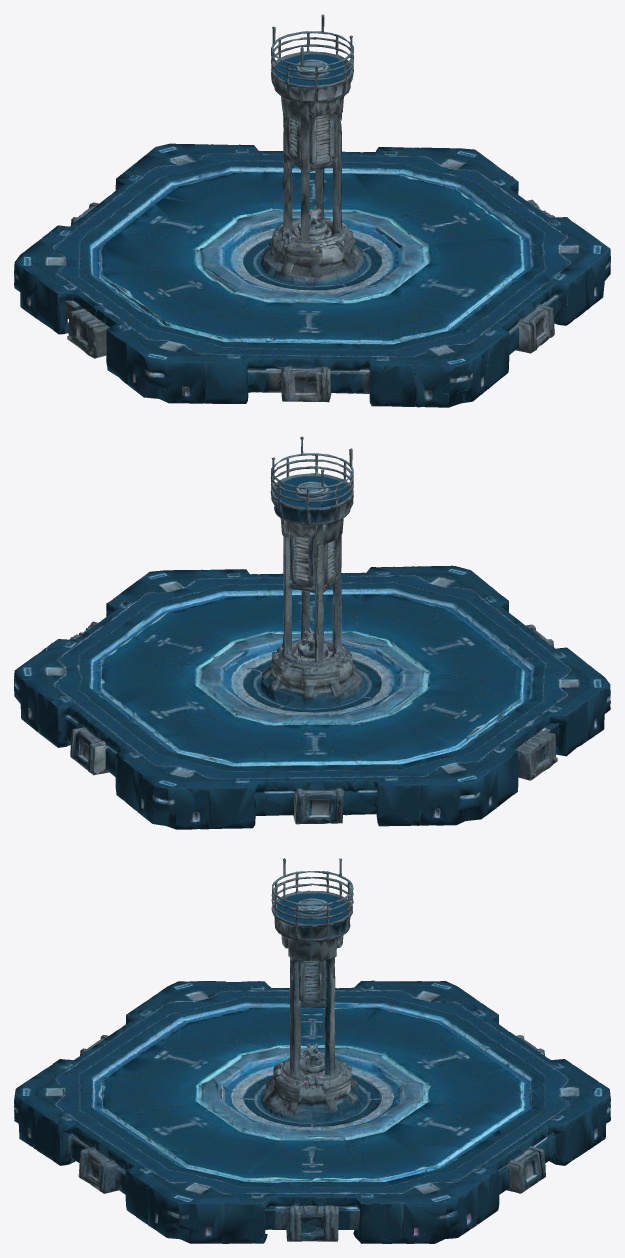
The model's file is launchd.glb.
The picture shows the model from 3 angles, top to bottom: view 1: azimuth 30°, elevation 25°; view 2: azimuth 150°, elevation 25°; view 3: azimuth 270°, elevation 25°; orthographic projection.
Parts seen in each view (by area): view 1: Mesh_0; view 2: Mesh_0; view 3: Mesh_0.
Boxes of the visible parts, left/top/right/bottom form: Mesh_0: left=14, top=14, right=610, bottom=407; Mesh_0: left=14, top=436, right=610, bottom=829; Mesh_0: left=14, top=858, right=610, bottom=1243.
Bounding box in the file's own units: 1.7 × 0.9272 × 1.9.
Materials: 1 (1 with a texture image).
